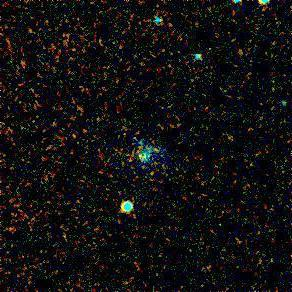star: (136, 159, 166, 189)
